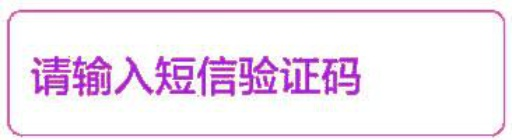EditText: (1, 1, 511, 139)
